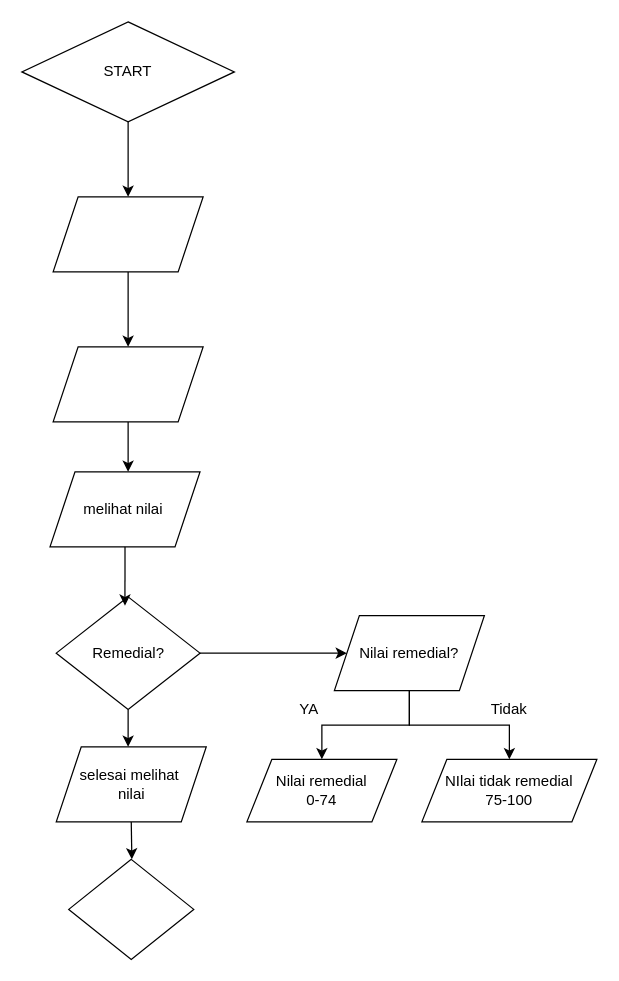
The diagram is 619 pixels wide and 981 high, and some of its shapes have lost their labels. The centre of each missing label's shape, as x and y in pixels:
End: the point at 131,908
Login murid: the point at 127,234
Memilih mata pelajaran: the point at 127,384
